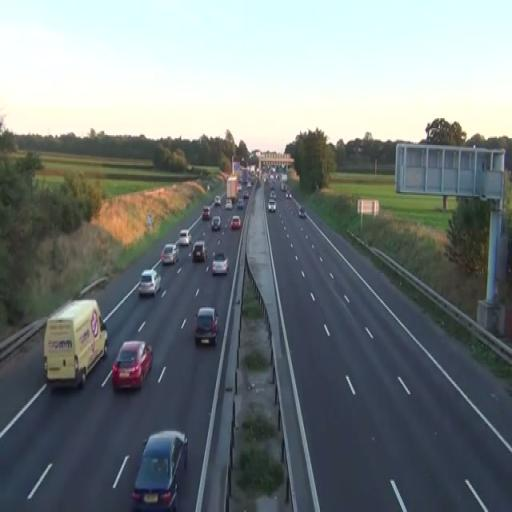Bus: (43, 298, 108, 390)
Car: (130, 430, 188, 510), (112, 340, 153, 390), (193, 306, 219, 346), (138, 269, 161, 297), (211, 250, 229, 276), (161, 242, 179, 266), (192, 241, 206, 262), (178, 228, 192, 246), (230, 216, 242, 230), (211, 216, 221, 231), (202, 206, 211, 220)
Truck: (43, 298, 108, 390)
